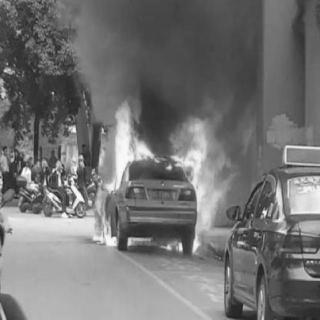Fire: (94, 90, 218, 262)
Smoke: (74, 2, 260, 136)
